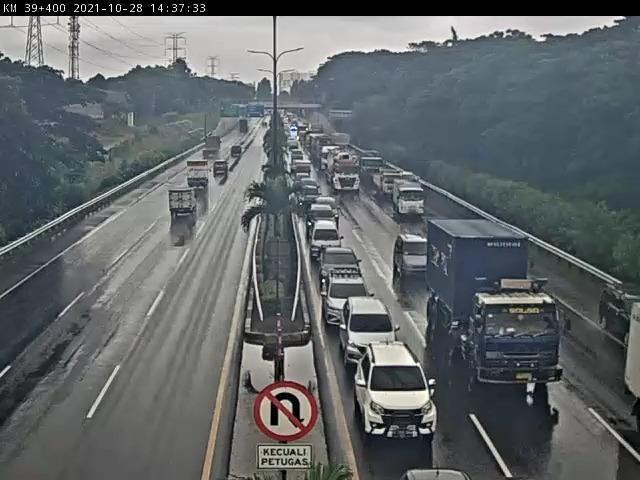car: (362, 364, 441, 442), (346, 308, 397, 359), (591, 276, 636, 331), (329, 275, 370, 332), (319, 247, 368, 280), (395, 237, 431, 274), (312, 217, 340, 257), (310, 203, 336, 223), (212, 161, 231, 178), (305, 184, 322, 203), (231, 146, 244, 161)
truck: (447, 235, 564, 388), (162, 195, 192, 224), (396, 186, 424, 217), (336, 159, 362, 191), (181, 164, 210, 191), (379, 169, 401, 195), (205, 138, 222, 154)
